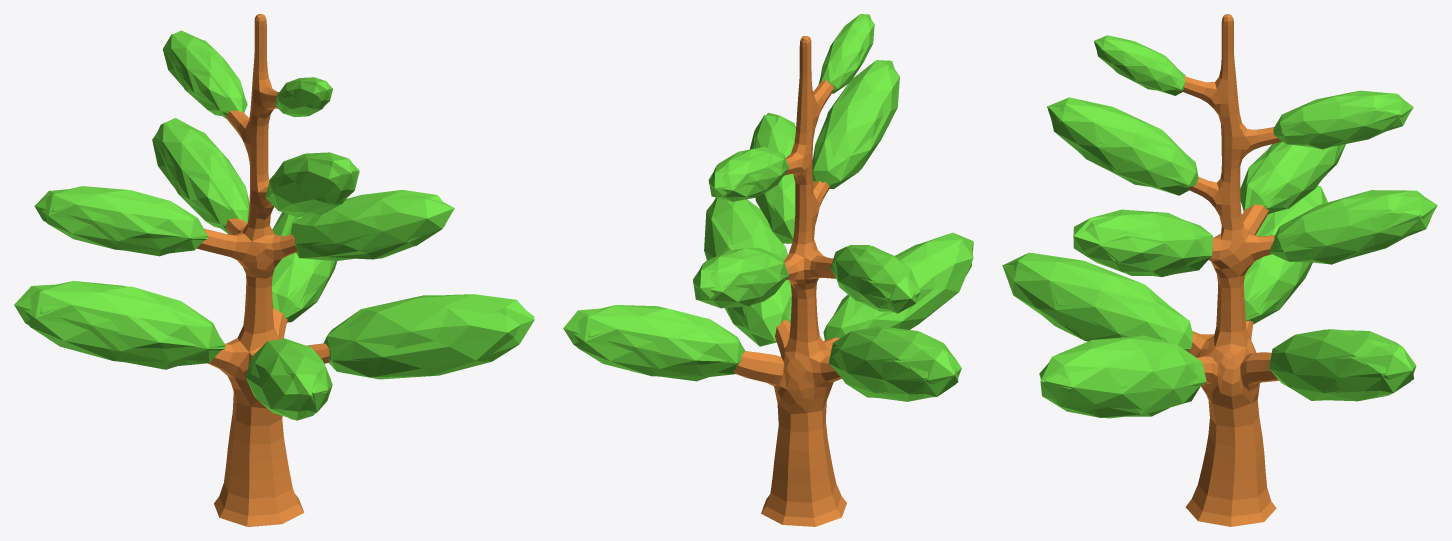
Rendered from tree4 .fbx.
3 renders of one model, left to right at view 1: azimuth 30°, elevation 25°; view 2: azimuth 150°, elevation 25°; view 3: azimuth 270°, elevation 25°, orthographic. The views are drawn at different scales.
Visible parts, largest first — view 1: Tree leaf, Tree trunk; view 2: Tree leaf, Tree trunk; view 3: Tree leaf, Tree trunk.
Boxes of the visible parts, x1,y1,x2,y2 form: Tree leaf: (14, 30, 534, 420); Tree trunk: (197, 14, 329, 526); Tree leaf: (563, 14, 973, 401); Tree trunk: (733, 36, 846, 526); Tree leaf: (1002, 35, 1437, 418); Tree trunk: (1181, 14, 1281, 526).
Bounding box in the file's own units: 1056 × 1311 × 1041.
